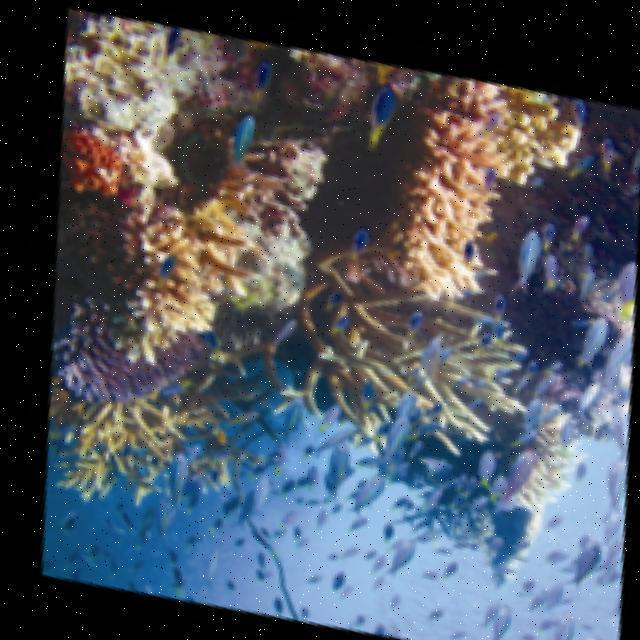Bleached Coral: (510, 444, 578, 538)
Healthy Coral: (341, 42, 540, 309), (71, 152, 258, 386), (293, 304, 552, 439), (34, 373, 201, 519), (72, 277, 200, 435), (68, 97, 154, 233)
